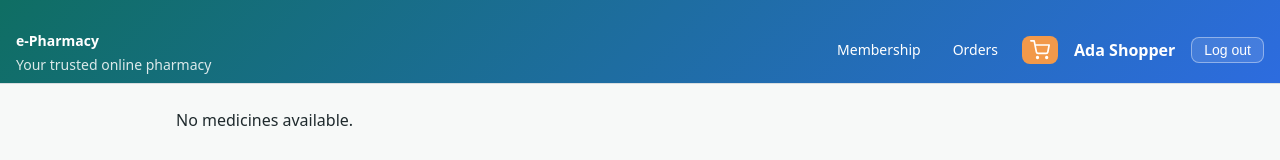
Test: App › clears the session when Log out is clicked
The width and height of the screenshot is (1280, 160).
Click the button "Log out" at (1228,50), box [1191,36,1264,62]
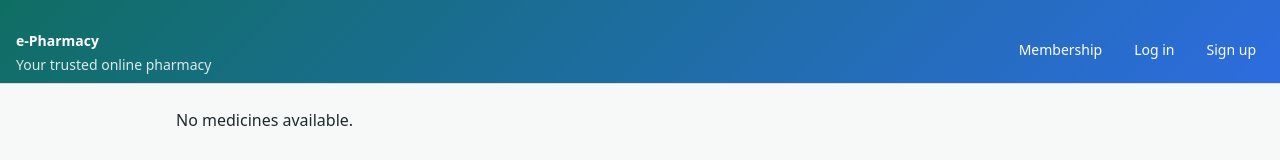
Now the button "Log out" is gone
